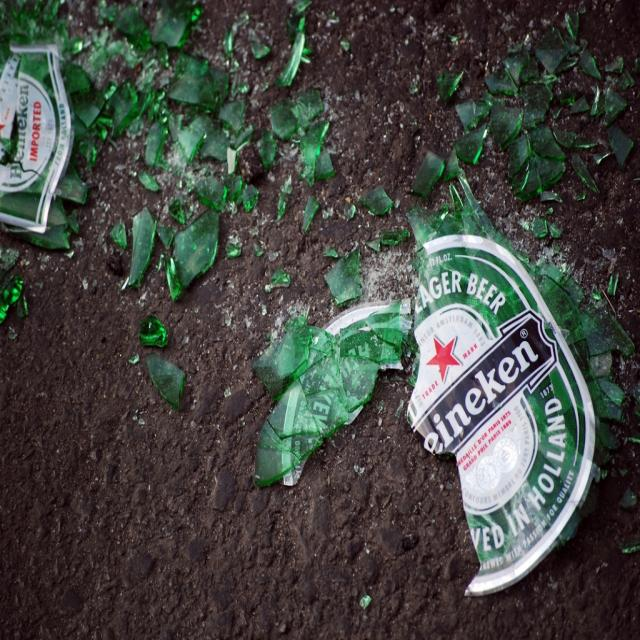heineken: (406, 234, 598, 596)
